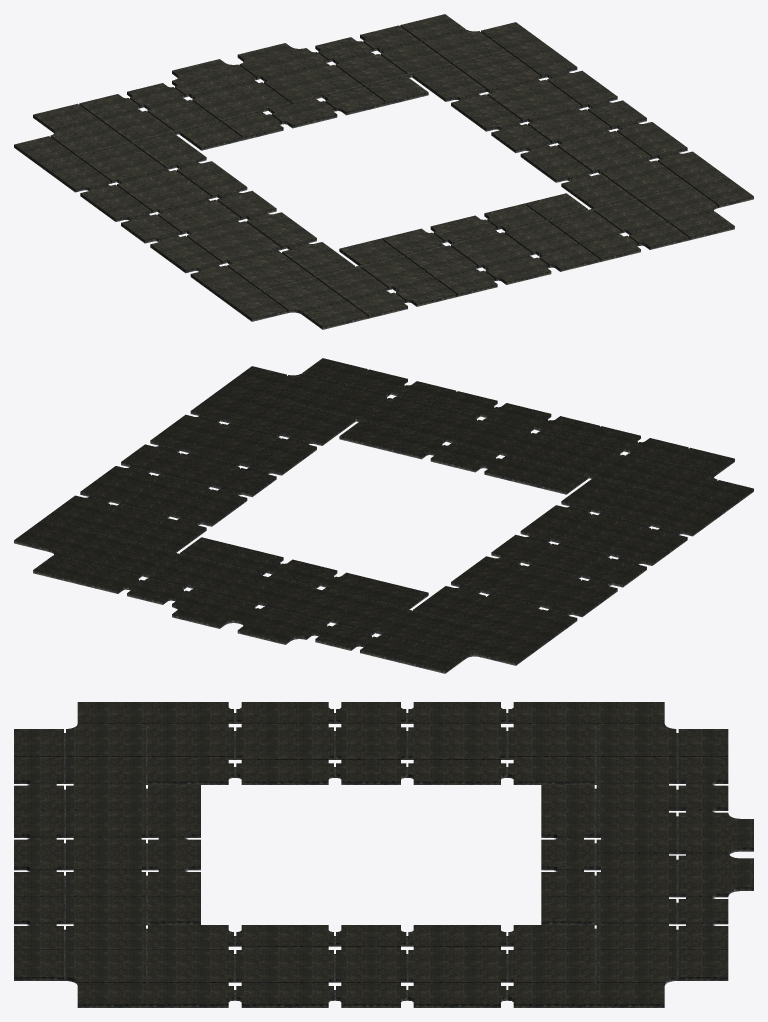
Rendered from ceiling.fbx.
3 renders of one model, top to bottom at view 1: azimuth 30°, elevation 25°; view 2: azimuth 150°, elevation 25°; view 3: azimuth 270°, elevation 25°, orthographic. The views are drawn at different scales.
Visible parts, largest first — view 1: ceiling.001; view 2: ceiling.001; view 3: ceiling.001.
Boxes of the visible parts, box(x1,y1,x2,y2) form: ceiling.001: box(14, 14, 753, 329); ceiling.001: box(14, 358, 753, 673); ceiling.001: box(14, 702, 753, 1007).
Size of the model in its own units: 68.54 by 0.408 by 70.99.
Materials: 2 (2 with a texture image).
